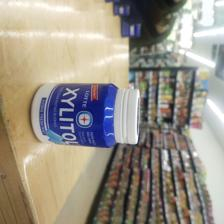Xylitol_blue: (30, 81, 140, 149)
